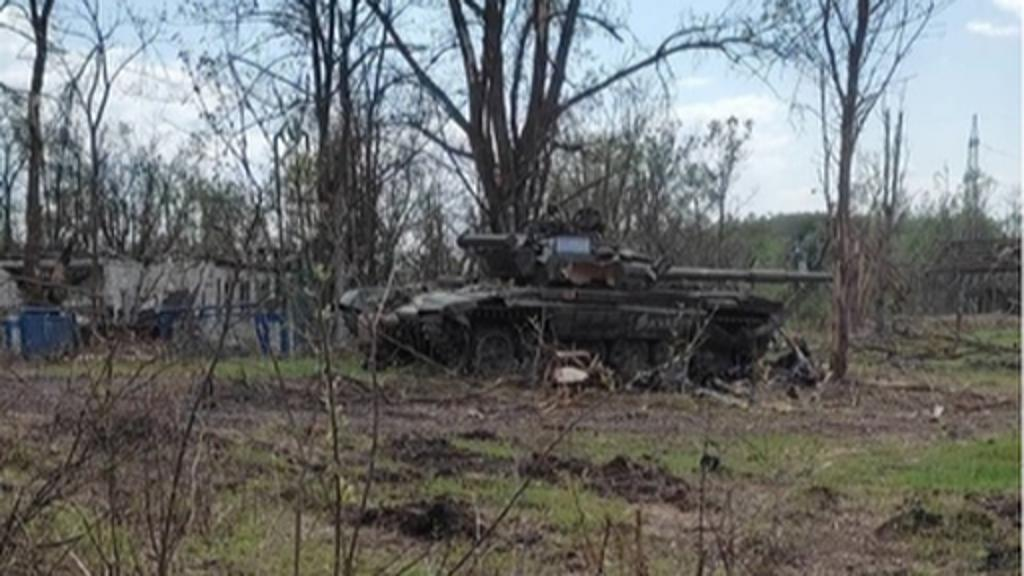TANK: (326, 214, 852, 390)
